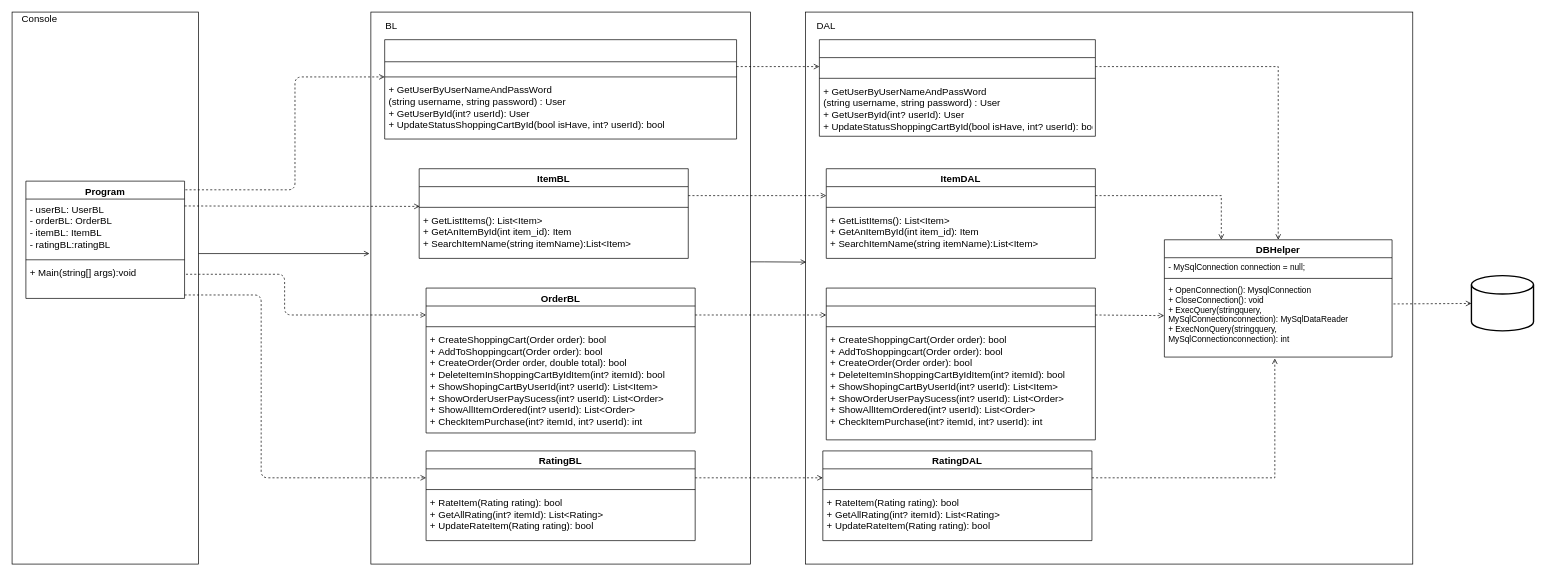
Some shapes in this 1546 by 576 pixel diagram are drawn without their labels. Here are the shapes that lost their labels. From the top down, the box of each, then its label:
(384, 39, 737, 139): UserBL
(819, 39, 1095, 136): UserDAL
(1470, 275, 1534, 331): Database
(826, 287, 1095, 440): OrderDAL
